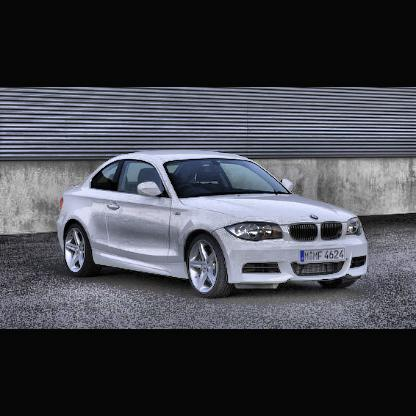BMW 1 Series Coupe 2012: (40, 136, 385, 307)
